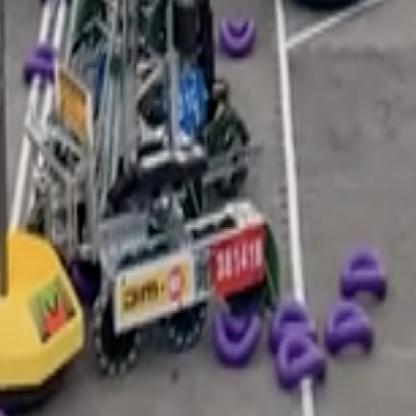ring: (212, 308, 261, 364), (276, 332, 325, 384), (324, 300, 373, 351), (339, 250, 385, 300), (269, 300, 318, 346), (22, 40, 59, 80), (219, 16, 254, 53)
